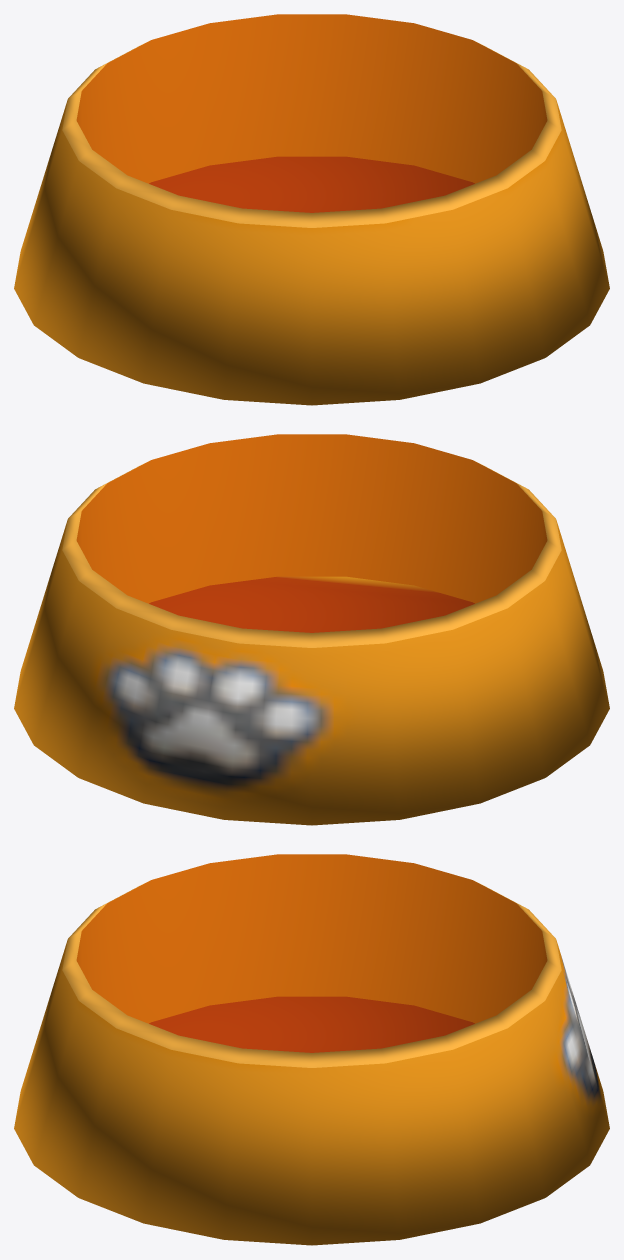
Rendered from maopen.fbx.
3 views of the same model, one above another, from view 1: azimuth 30°, elevation 25°; view 2: azimuth 150°, elevation 25°; view 3: azimuth 270°, elevation 25° (orthographic).
Parts seen in each view (by area): view 1: Box001; view 2: Box001; view 3: Box001.
Boxes of the visible parts, left/top/right/bottom form: Box001: left=14, top=14, right=609, bottom=405; Box001: left=14, top=434, right=609, bottom=825; Box001: left=14, top=854, right=609, bottom=1245.
Size of the model in its own units: 19.07 by 5.88 by 19.12.
